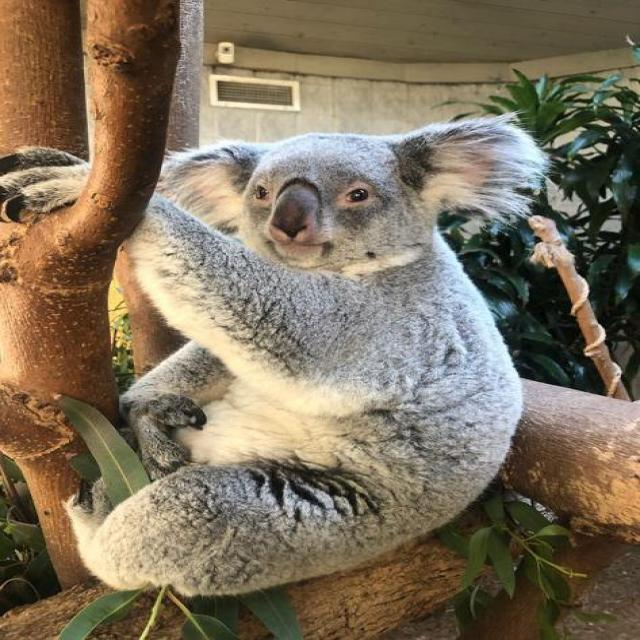Koala: (4, 110, 555, 599)
